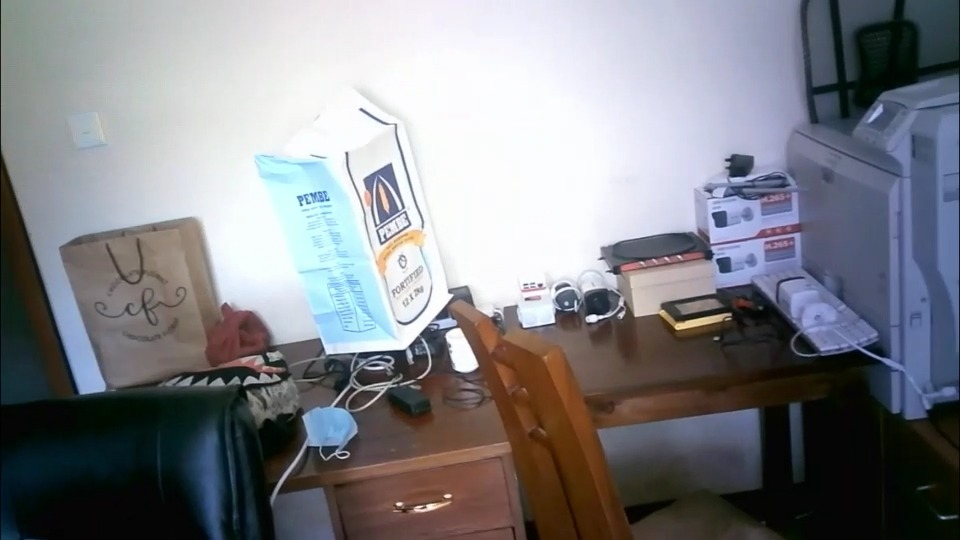wheat_flour_blue_label: (255, 90, 453, 350)
